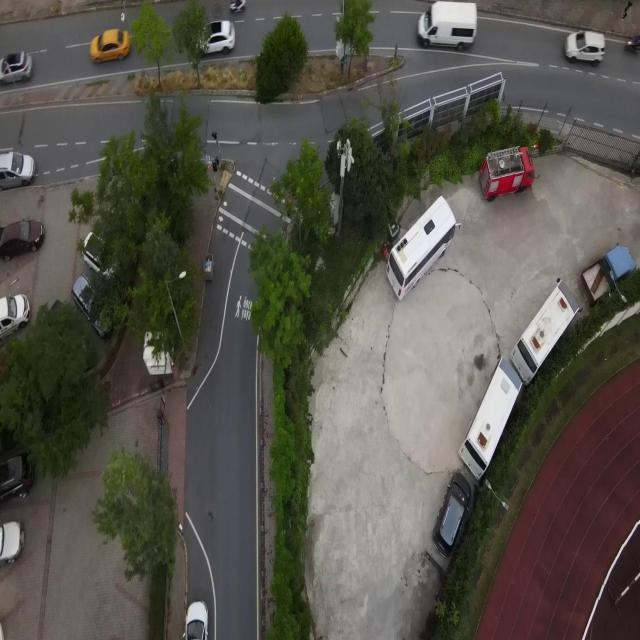p3rson: (621, 0, 633, 22)
